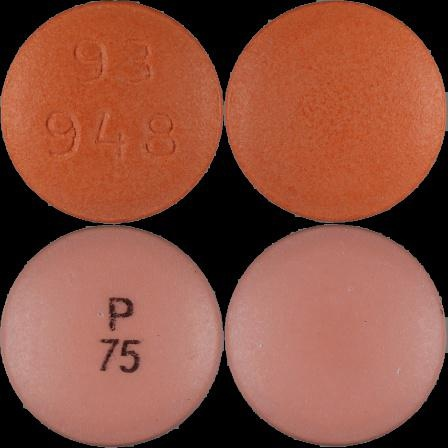35356-713: (0, 0, 224, 224)
